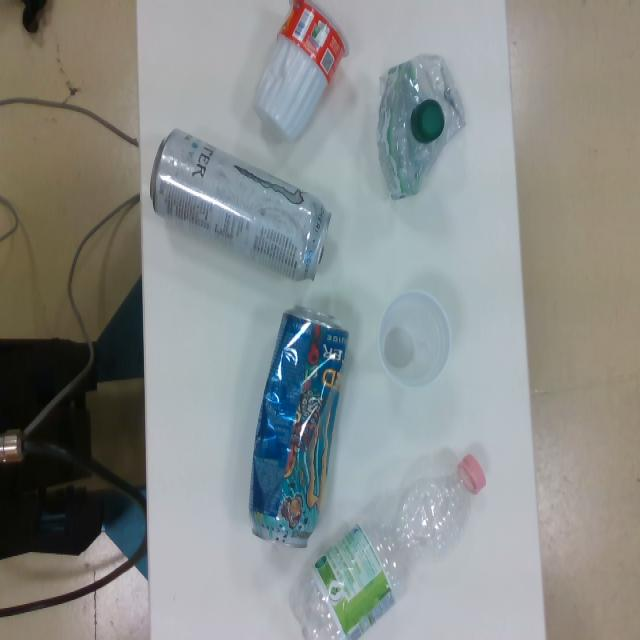aluminum: (149, 127, 333, 284), (248, 302, 348, 550)
plastic: (288, 449, 492, 640), (251, 0, 349, 146), (375, 53, 469, 201), (377, 287, 453, 390)
